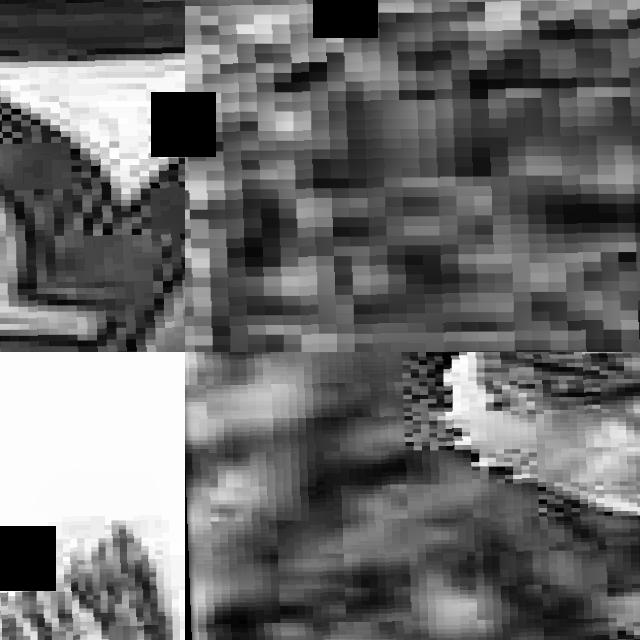crab: (185, 0, 640, 352), (185, 352, 640, 640), (0, 0, 185, 352)
fish: (0, 352, 185, 640)
